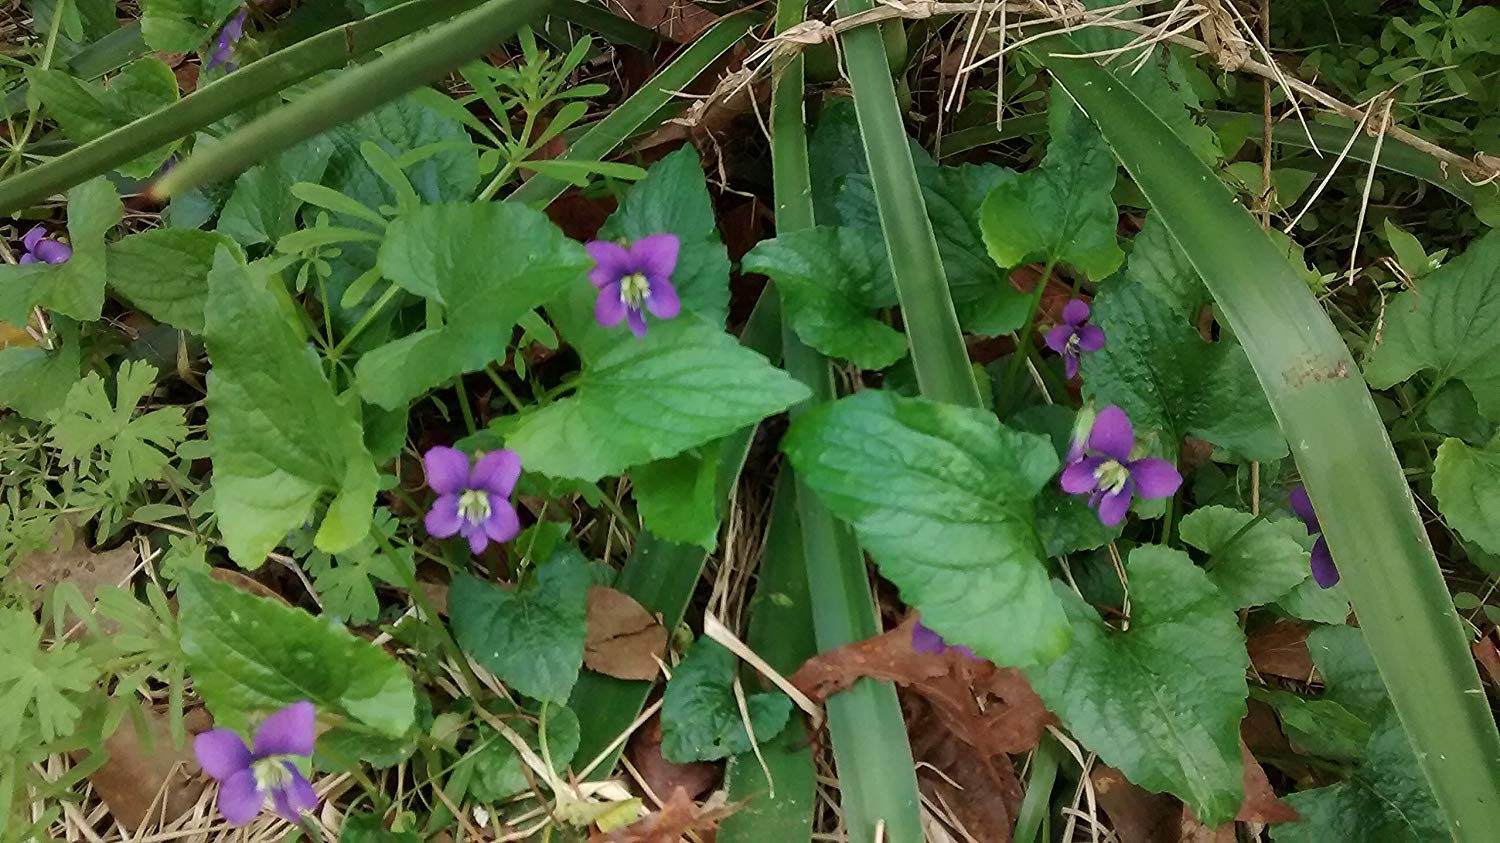violet: (410, 418, 553, 566), (180, 714, 343, 819), (1052, 406, 1190, 525), (583, 231, 697, 350), (1036, 295, 1110, 379)
